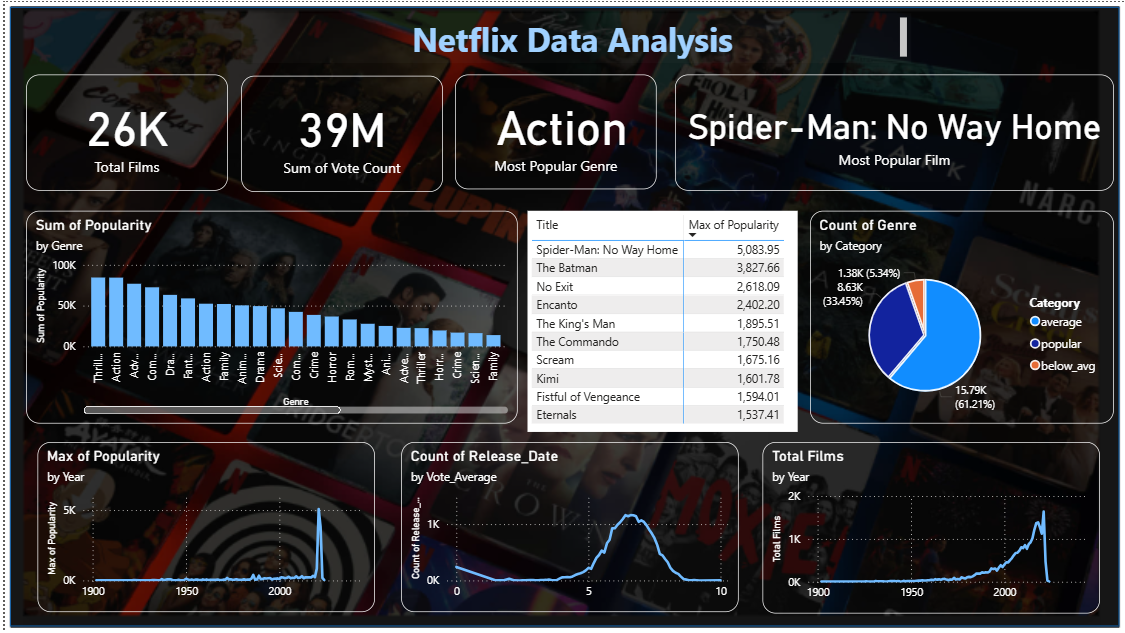

What the dashboard file says about the page in this screenshot:
{"tool":"powerbi","page":{"name":"Page 1","canvas":[1280,720],"ordinal":0},"visuals":[{"type":"image","box":[0,0,1280,720],"z":0},{"type":"shape","box":[0,0,1280,720],"z":1000},{"type":"pieChart","fields":{"Y":["CountNonNull(data2.Genre)"],"Category":["data2.Category"]},"box":[920,238.6,347.1,242.9],"z":2000},{"type":"columnChart","fields":{"Category":["data2.Genre"],"Y":["Sum(data2.Popularity)"]},"box":[24.3,238.6,561.4,242.9],"z":3000},{"type":"card","fields":{"Values":["Min(data2.Genre)"]},"box":[514.3,82.9,230,131.4],"z":4000},{"type":"lineChart","fields":{"Category":["data2.year"],"Y":["data2.total films"]},"box":[865.7,502.9,385.7,195.7],"z":5000},{"type":"pivotTable","fields":{"Rows":["data2.Title"],"Values":["Max(data2.Popularity)"]},"box":[597.1,238.6,308.6,252.9],"z":6000},{"type":"card","fields":{"Values":["Min(data2.Title)"]},"box":[765.7,82.9,501.4,132.9],"z":7000},{"type":"lineChart","fields":{"Category":["data2.year"],"Y":["Max(data2.Popularity)"]},"box":[37.1,502.9,385.7,194.3],"z":8000},{"type":"card","fields":{"Values":["Sum(data2.Vote_Count)"]},"box":[270,84.3,230,132.9],"z":9000},{"type":"lineChart","fields":{"Category":["data2.Vote_Average"],"Y":["CountNonNull(data2.Release_Date)"]},"box":[452.9,502.9,385.7,194.3],"z":10000},{"type":"card","fields":{"Values":["data2.total films"]},"box":[24.3,82.9,230,132.9],"z":11000},{"type":"textbox","box":[158.6,12.9,1005.7,57.1],"z":12000}]}

Visuals, with their boxes in screenshot pixels (x1, y1, x2, y2), scaled from the page's 1280x720 canvas onto the 1125x633 screenshot:
image: x1=0, y1=0, x2=1124, y2=632
shape: x1=0, y1=0, x2=1124, y2=632
pieChart - CountNonNull(data2.Genre) x data2.Category: x1=809, y1=210, x2=1114, y2=423
columnChart - data2.Genre x Sum(data2.Popularity): x1=21, y1=210, x2=515, y2=423
card - Min(data2.Genre): x1=452, y1=73, x2=654, y2=188
lineChart - data2.year x data2.total films: x1=761, y1=442, x2=1100, y2=614
pivotTable - data2.Title x Max(data2.Popularity): x1=525, y1=210, x2=796, y2=432
card - Min(data2.Title): x1=673, y1=73, x2=1114, y2=190
lineChart - data2.year x Max(data2.Popularity): x1=33, y1=442, x2=372, y2=613
card - Sum(data2.Vote_Count): x1=237, y1=74, x2=439, y2=191
lineChart - data2.Vote_Average x CountNonNull(data2.Release_Date): x1=398, y1=442, x2=737, y2=613
card - data2.total films: x1=21, y1=73, x2=224, y2=190
textbox: x1=139, y1=11, x2=1023, y2=62
